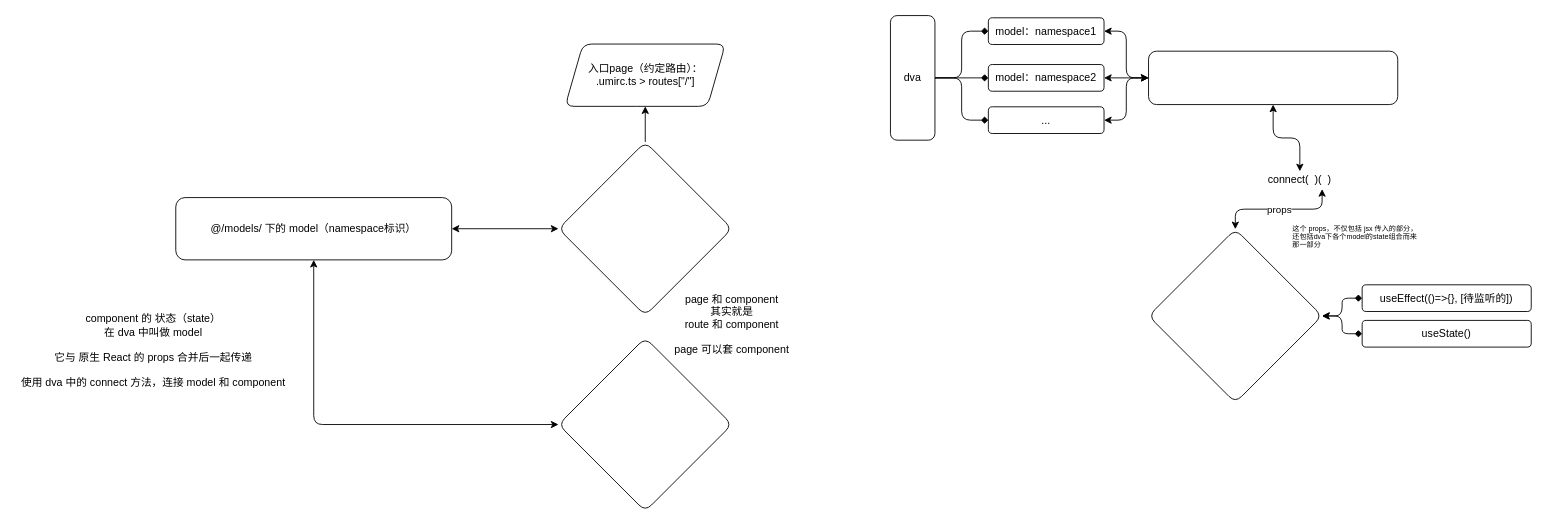
This 1547x527 diagram has some shape labels left out. Here are the shapes that lost their labels. From the top down, the centre of each, then its label:
At [1273,77]: "dva => 组合想要的model的state成{}, 并返回{}".
At [645,228]: "@/pages/ 下的 page".
At [1235,315]: "React Component".
At [645,424]: "@/components/ 下的 component （常规 React 函数组件）".
